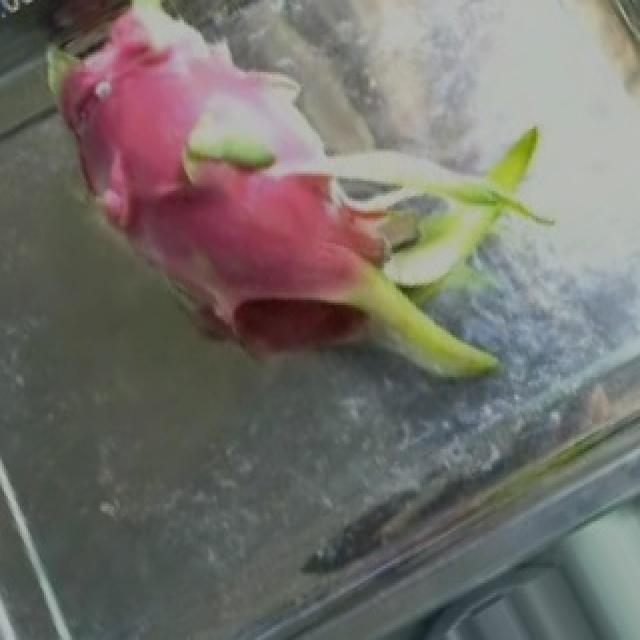fruit: (172, 10, 608, 456), (2, 0, 386, 389)
